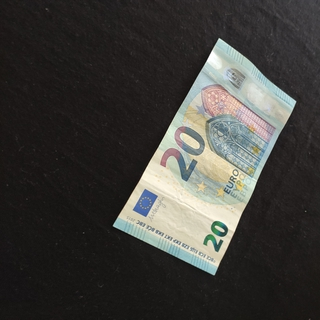20EUROFront: (112, 37, 297, 276)
